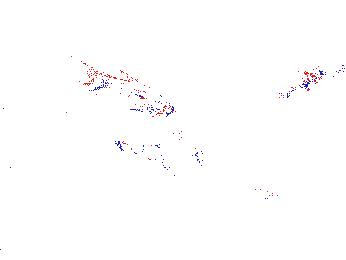X-ray fish: (107, 218, 148, 255)
red belly glassfish: (277, 74, 320, 108), (302, 64, 342, 82)
redtail glassfish: (80, 65, 177, 120), (113, 133, 215, 171), (201, 185, 275, 205)
